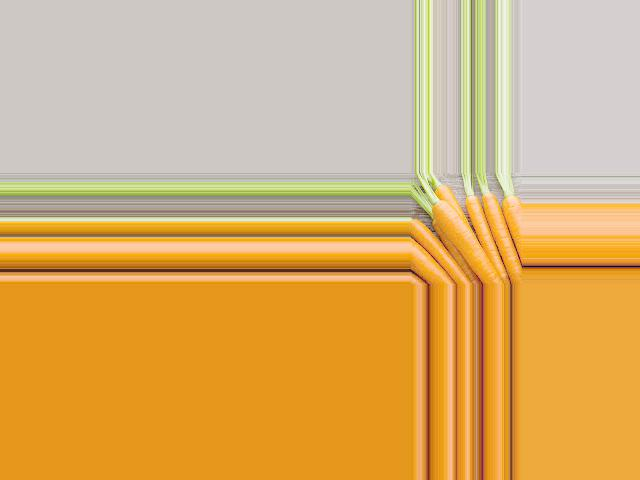carrot: (411, 219, 463, 285)
